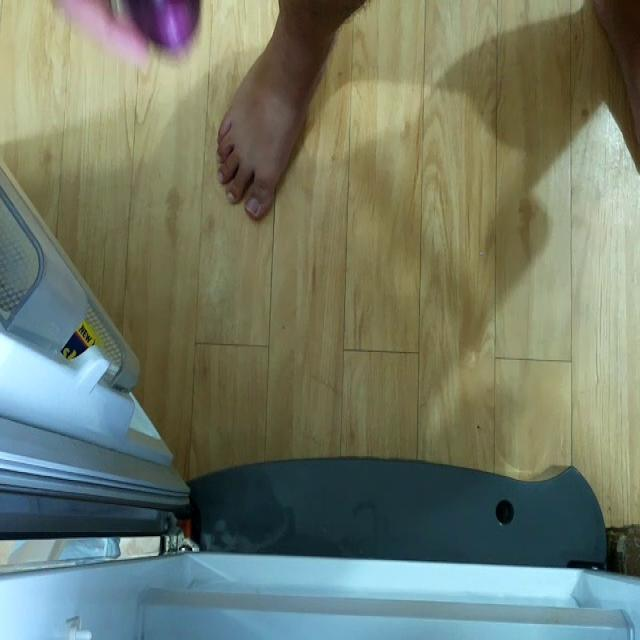onion: (122, 0, 201, 53)
